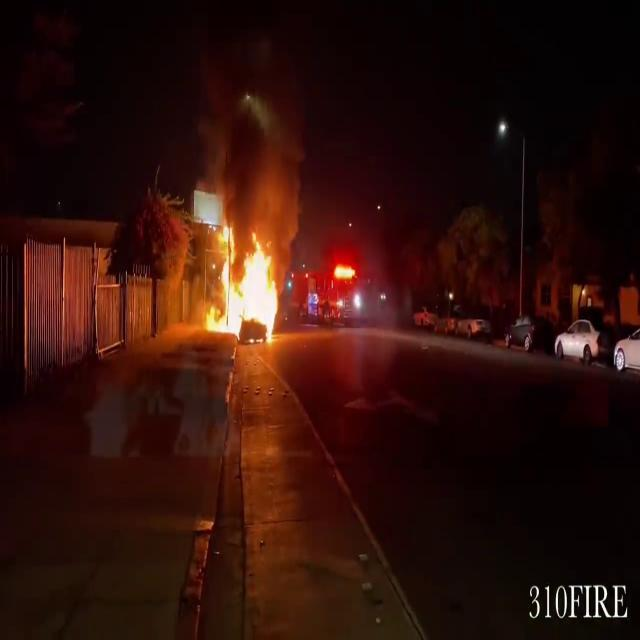Fire: (202, 226, 286, 345)
Smoke: (195, 90, 307, 233)
